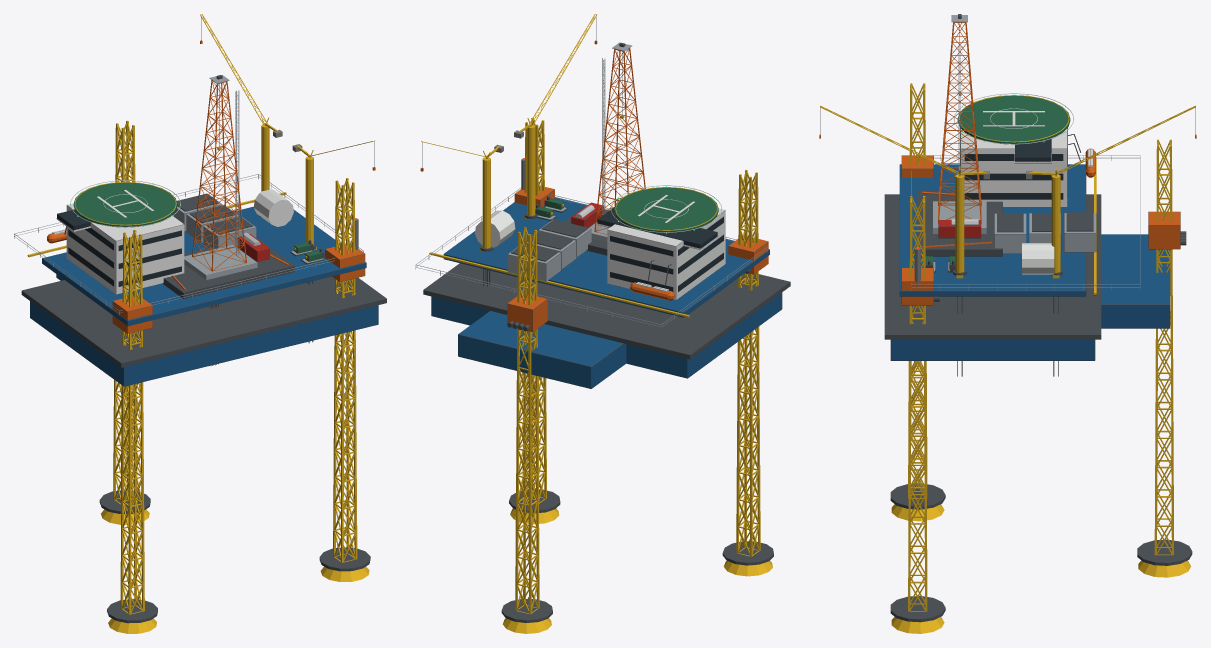
The model's file is off_jackup_rig.glb.
3 renders of one model, left to right at view 1: azimuth 30°, elevation 25°; view 2: azimuth 150°, elevation 25°; view 3: azimuth 270°, elevation 25°, orthographic. The views are drawn at different scales.
Parts seen in each view (by area): view 1: off_jackup_rig; view 2: off_jackup_rig; view 3: off_jackup_rig.
Boxes of the visible parts, bbox=[...] form: off_jackup_rig: bbox=[14, 14, 386, 633]; off_jackup_rig: bbox=[415, 14, 790, 633]; off_jackup_rig: bbox=[819, 14, 1196, 633].
Size of the model in its own units: 62 by 113 by 70.27.
